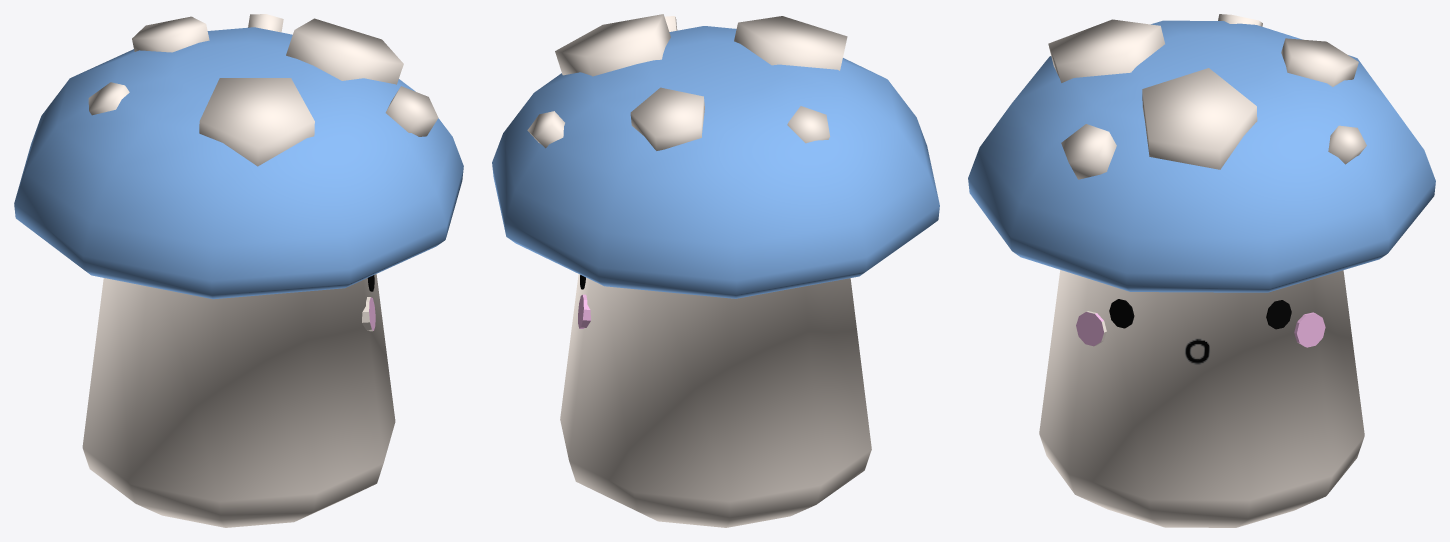
The model's file is Hongo4.fbx.
3 renders of one model, left to right at view 1: azimuth 30°, elevation 25°; view 2: azimuth 150°, elevation 25°; view 3: azimuth 270°, elevation 25°, orthographic. The views are drawn at different scales.
Visible parts, largest first — view 1: Green Mushroom.001; view 2: Green Mushroom.001; view 3: Green Mushroom.001.
Part boxes in pixels (bbox=[...]): Green Mushroom.001: bbox=[14, 14, 463, 527]; Green Mushroom.001: bbox=[492, 14, 939, 527]; Green Mushroom.001: bbox=[968, 14, 1435, 527].
Bounding box in the file's own units: 29.42 × 32.15 × 30.79.
